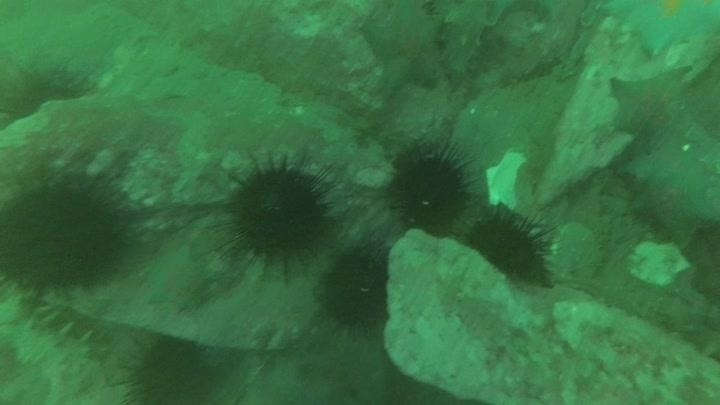echinus: (1, 167, 136, 297), (216, 153, 332, 272), (384, 135, 474, 232), (463, 206, 555, 287), (316, 239, 393, 335), (121, 337, 219, 404), (1, 60, 93, 128)
holothurian: (1, 309, 114, 399), (436, 2, 500, 78)
starfish: (622, 145, 719, 245), (359, 2, 447, 97), (602, 1, 717, 59), (607, 65, 693, 142), (142, 242, 219, 314)
